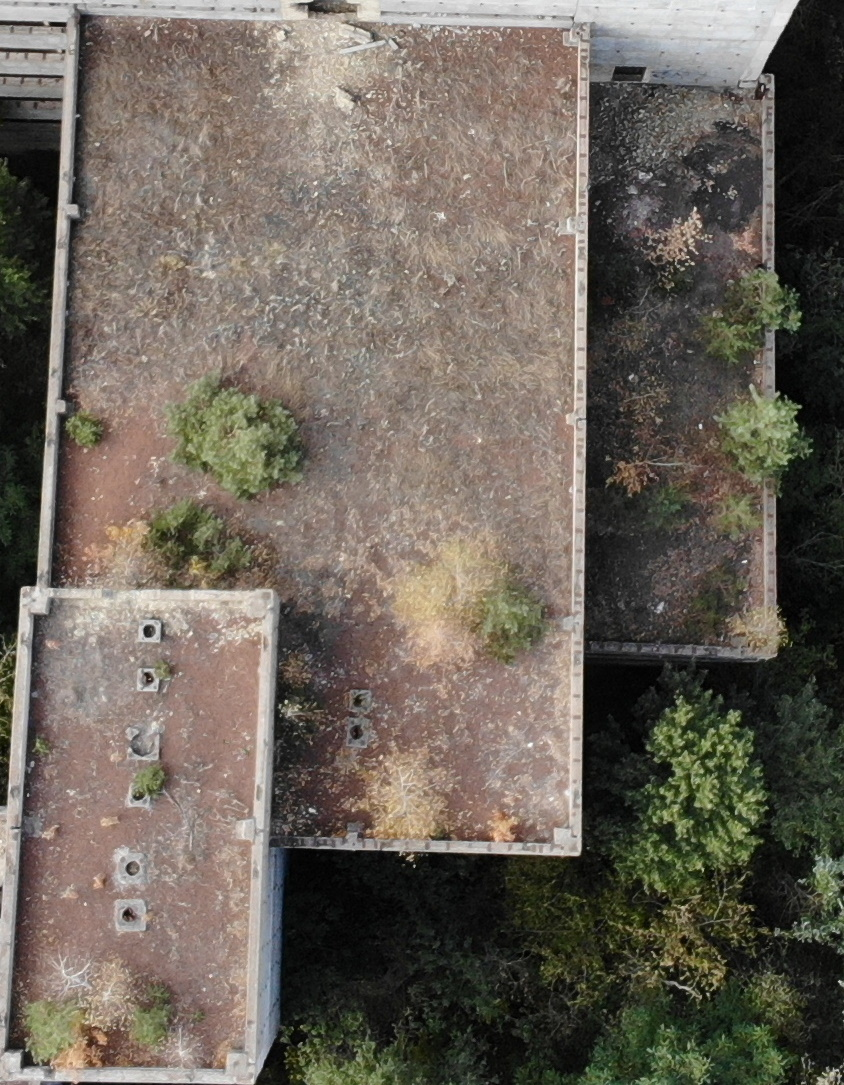tree: (156, 383, 335, 505), (126, 482, 274, 598), (410, 538, 498, 664), (715, 397, 813, 486), (373, 754, 462, 848), (734, 273, 825, 350), (104, 968, 181, 1050), (707, 483, 776, 557), (484, 583, 552, 657), (640, 204, 704, 281), (22, 1006, 87, 1073), (612, 440, 656, 522), (71, 966, 121, 1036), (64, 398, 111, 467), (130, 759, 181, 819), (700, 318, 754, 374)
